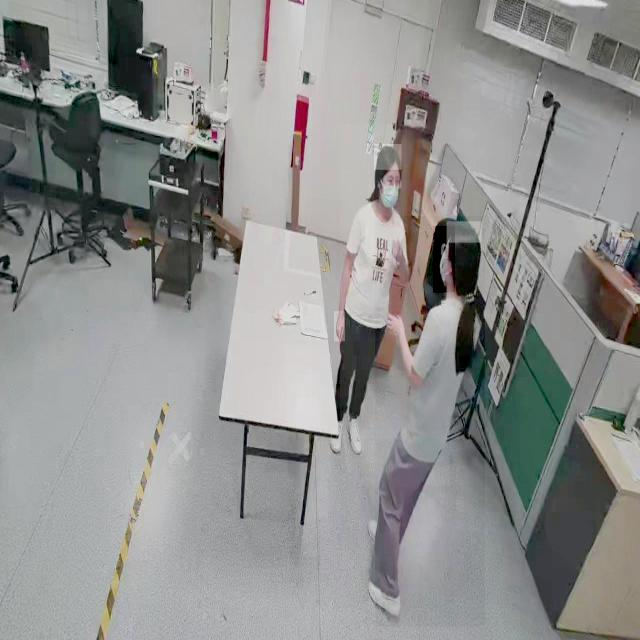face_mask: (374, 162, 404, 215), (433, 226, 455, 292)
hand_noglove: (385, 309, 405, 338), (334, 311, 346, 342)
head_nohelmet: (446, 222, 482, 244), (374, 144, 402, 171)
person: (375, 216, 485, 628), (340, 125, 407, 439)
shoes: (366, 573, 404, 620), (344, 412, 363, 459), (328, 410, 344, 458)
